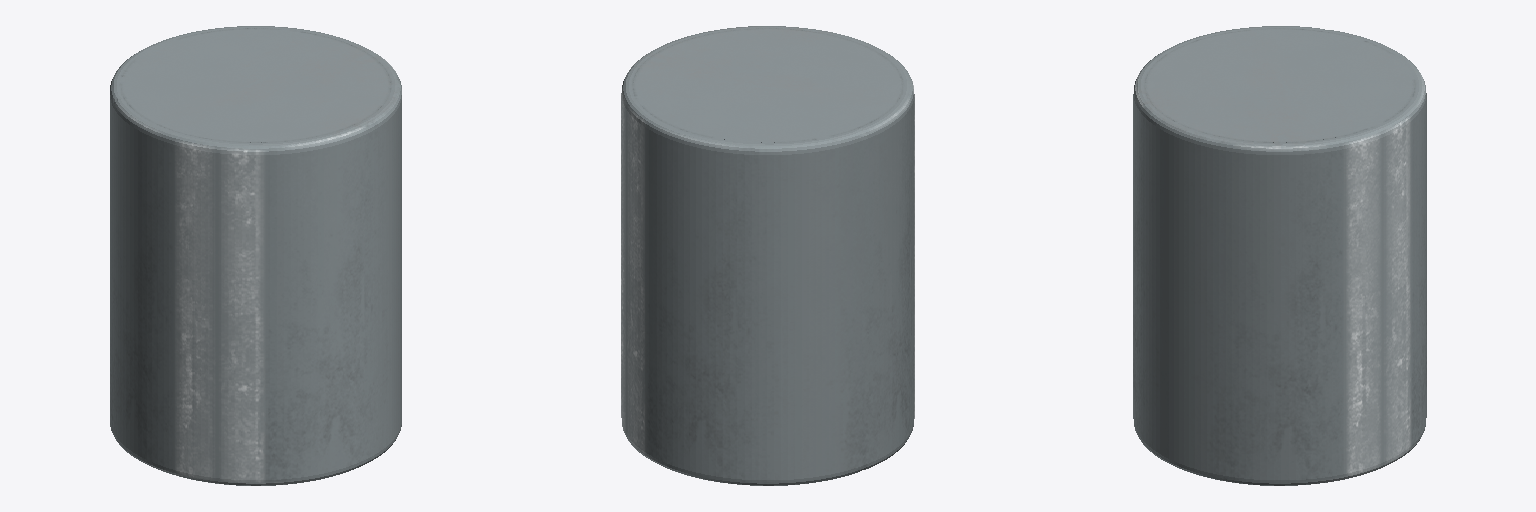
The picture shows the model from 3 angles: view 1: azimuth 30°, elevation 25°; view 2: azimuth 150°, elevation 25°; view 3: azimuth 270°, elevation 25°; orthographic projection.
Visible parts, largest first — view 1: solid; view 2: solid; view 3: solid.
Part boxes in pixels (bbox=[...]): solid: bbox=[110, 26, 401, 485]; solid: bbox=[621, 26, 914, 485]; solid: bbox=[1133, 26, 1426, 485].
Size of the model in its own units: 0.2728 by 0.35 by 0.2728.
1 materials, 1 textured.